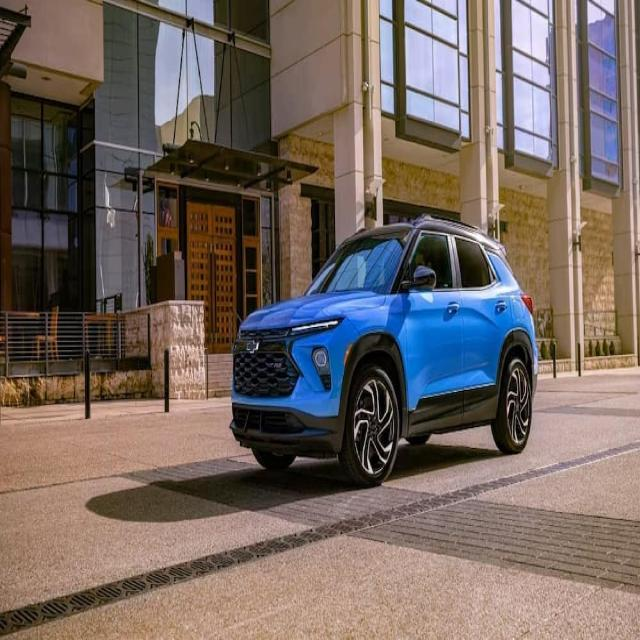sedan: (228, 210, 539, 487)
